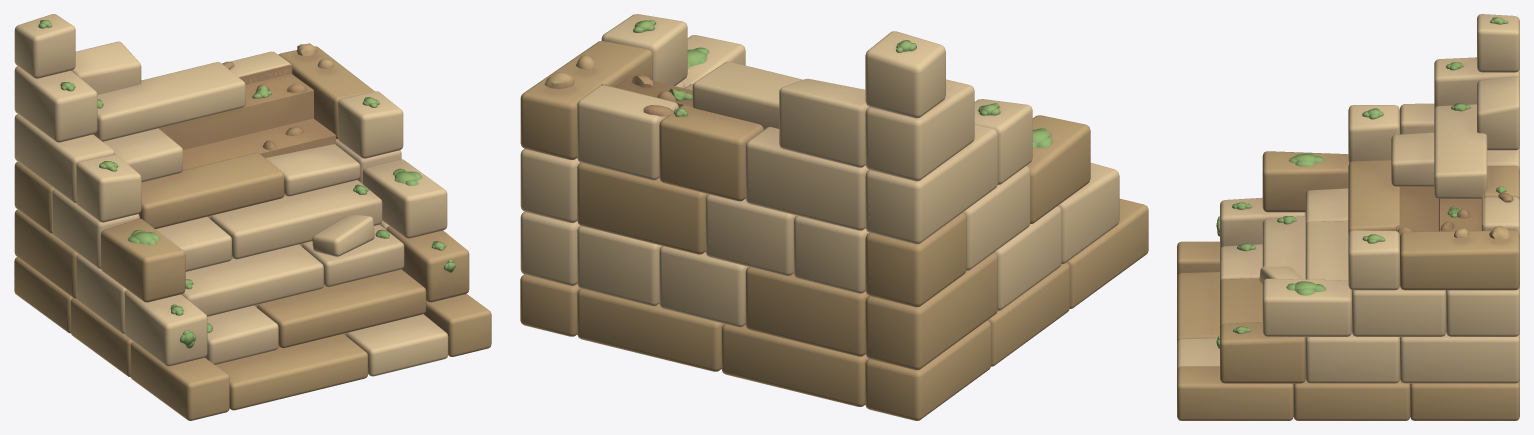
The model's file is CC0_StoneStairs.glb.
3 renders of one model, left to right at view 1: azimuth 30°, elevation 25°; view 2: azimuth 150°, elevation 25°; view 3: azimuth 270°, elevation 25°, orthographic. The views are drawn at different scales.
Parts seen in each view (by area): view 1: ruin-stairs_body; view 2: ruin-stairs_body; view 3: ruin-stairs_body.
Part boxes in pixels (box(x1,y1,x2,y2)): ruin-stairs_body: box(14, 14, 491, 420); ruin-stairs_body: box(520, 14, 1148, 420); ruin-stairs_body: box(1177, 14, 1519, 420).
Bounding box in the file's own units: 2 × 1.74 × 2.
Materials: 1 (1 with a texture image).
